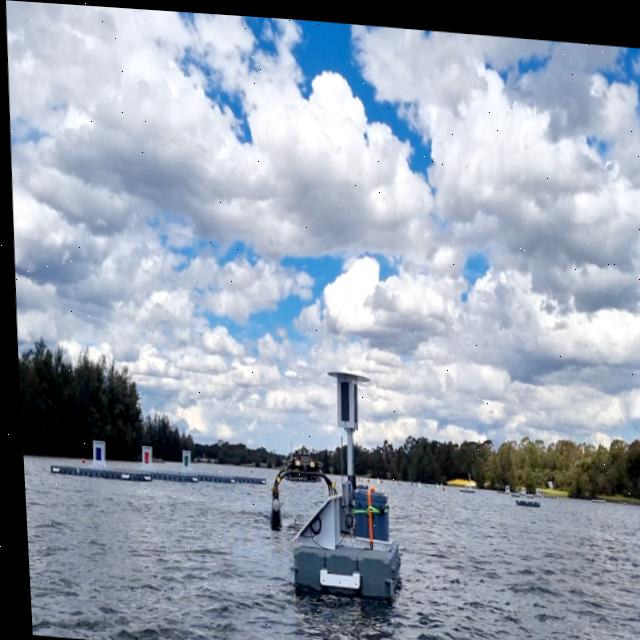led: (334, 374, 349, 423)
